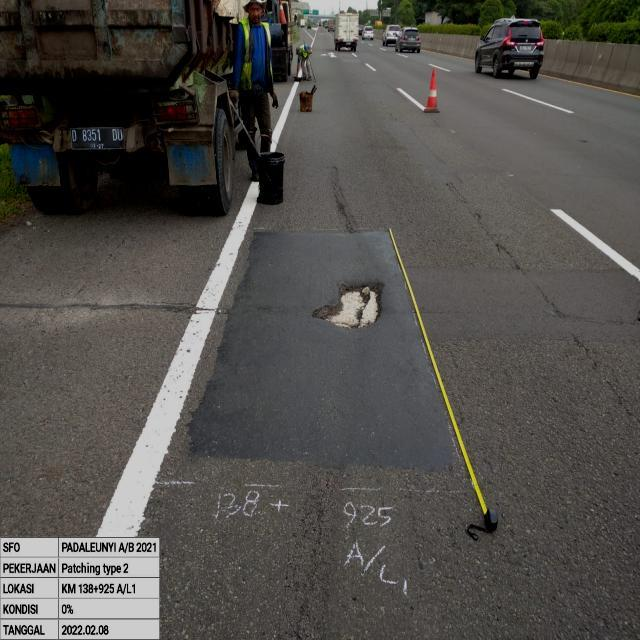Buraco: (308, 280, 388, 332)
